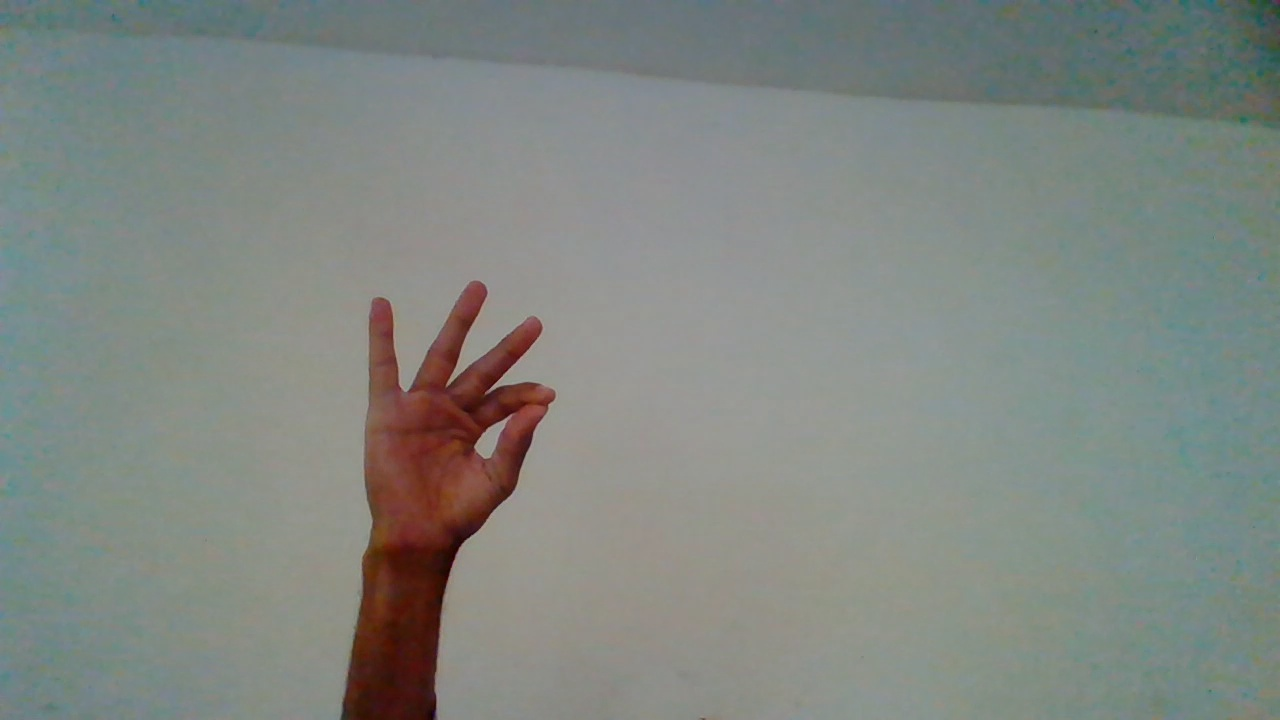le: (362, 275, 556, 659)
